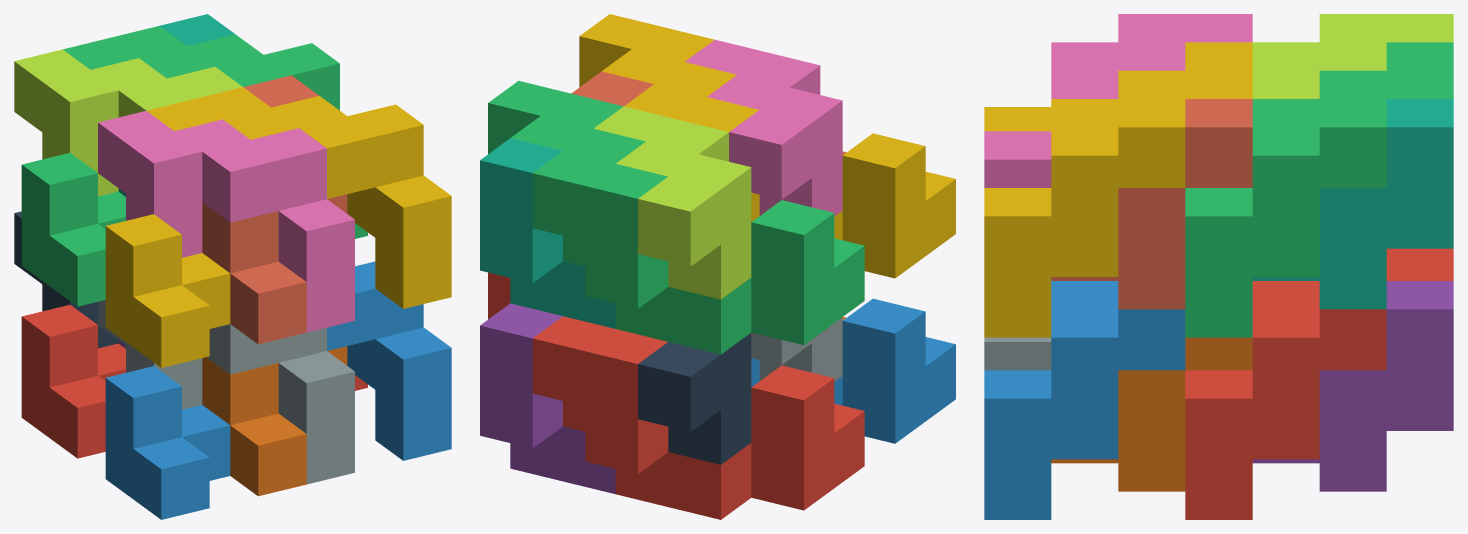
File: tiling.obj
The picture shows the model from 3 angles, left to right: view 1: azimuth 30°, elevation 25°; view 2: azimuth 150°, elevation 25°; view 3: azimuth 270°, elevation 25°; orthographic projection. The views are drawn at different scales.
Visible parts, largest first — view 1: copy_2_domain_4, copy_2_domain_8, copy_1_domain_4, copy_1_domain_2, copy_2_domain_6, copy_2_domain_2, copy_2_domain_3, copy_1_domain_3, copy_1_domain_1, copy_1_domain_8, copy_1_domain_6, copy_2_domain_7 (+2 smaller); view 2: copy_1_domain_1, copy_1_domain_3, copy_2_domain_3, copy_2_domain_4, copy_1_domain_4, copy_2_domain_7, copy_1_domain_2, copy_1_domain_7, copy_1_domain_5, copy_2_domain_1, copy_2_domain_8, copy_2_domain_5 (+2 smaller); view 3: copy_2_domain_8, copy_2_domain_7, copy_2_domain_5, copy_2_domain_6, copy_1_domain_5, copy_1_domain_7, copy_1_domain_8, copy_2_domain_4, copy_1_domain_6, copy_2_domain_3, copy_1_domain_4, copy_2_domain_2 (+1 smaller).
Boxes of the visible parts, left/top/right/bottom form: copy_2_domain_4: left=98, top=111, right=354, bottom=332; copy_2_domain_8: left=195, top=87, right=451, bottom=308; copy_1_domain_4: left=105, top=99, right=230, bottom=367; copy_1_domain_2: left=105, top=366, right=230, bottom=519; copy_2_domain_6: left=327, top=261, right=451, bottom=460; copy_2_domain_2: left=98, top=300, right=354, bottom=484; copy_2_domain_3: left=14, top=49, right=242, bottom=196; copy_1_domain_3: left=21, top=37, right=138, bottom=306; copy_1_domain_1: left=21, top=304, right=125, bottom=458; copy_1_domain_8: left=202, top=75, right=347, bottom=344; copy_1_domain_6: left=202, top=346, right=347, bottom=496; copy_2_domain_7: left=111, top=26, right=367, bottom=238; copy_1_domain_1: left=585, top=329, right=864, bottom=519; copy_1_domain_3: left=585, top=164, right=864, bottom=354; copy_2_domain_3: left=594, top=106, right=751, bottom=299; copy_2_domain_4: left=685, top=39, right=842, bottom=216; copy_1_domain_4: left=677, top=97, right=955, bottom=278; copy_2_domain_7: left=488, top=80, right=645, bottom=266; copy_1_domain_2: left=751, top=298, right=955, bottom=443; copy_1_domain_7: left=480, top=138, right=615, bottom=328; copy_1_domain_5: left=480, top=303, right=615, bottom=494; copy_2_domain_1: left=638, top=333, right=751, bottom=464; copy_2_domain_8: left=579, top=14, right=736, bottom=119; copy_2_domain_5: left=488, top=272, right=615, bottom=431; copy_2_domain_8: left=984, top=70, right=1252, bottom=337; copy_2_domain_7: left=1185, top=70, right=1453, bottom=337; copy_2_domain_5: left=1185, top=253, right=1453, bottom=519; copy_2_domain_6: left=984, top=281, right=1185, bottom=519; copy_1_domain_5: left=1252, top=281, right=1453, bottom=491; copy_1_domain_7: left=1252, top=99, right=1453, bottom=309; copy_1_domain_8: left=1051, top=99, right=1252, bottom=309; copy_2_domain_4: left=984, top=14, right=1252, bottom=187; copy_1_domain_6: left=1051, top=337, right=1252, bottom=491; copy_2_domain_3: left=1252, top=14, right=1453, bottom=98; copy_1_domain_4: left=984, top=42, right=1252, bottom=131; copy_2_domain_2: left=984, top=337, right=1051, bottom=370.
Size of the model in its own units: 6 by 6 by 7.
